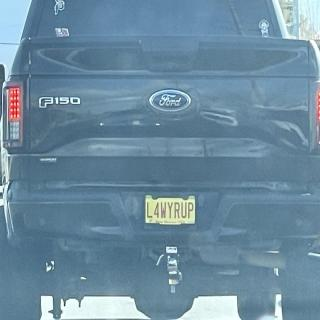license: (144, 194, 197, 228)
